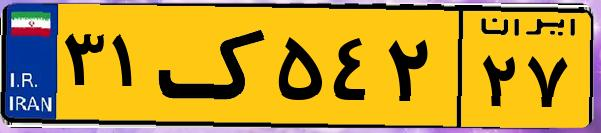1: (110, 28, 158, 98)
2: (385, 28, 445, 110), (475, 38, 525, 113)
3: (57, 26, 110, 100)
4: (330, 28, 385, 110)
5: (270, 28, 330, 110)
7: (525, 38, 570, 115)
ک: (158, 12, 270, 120)
